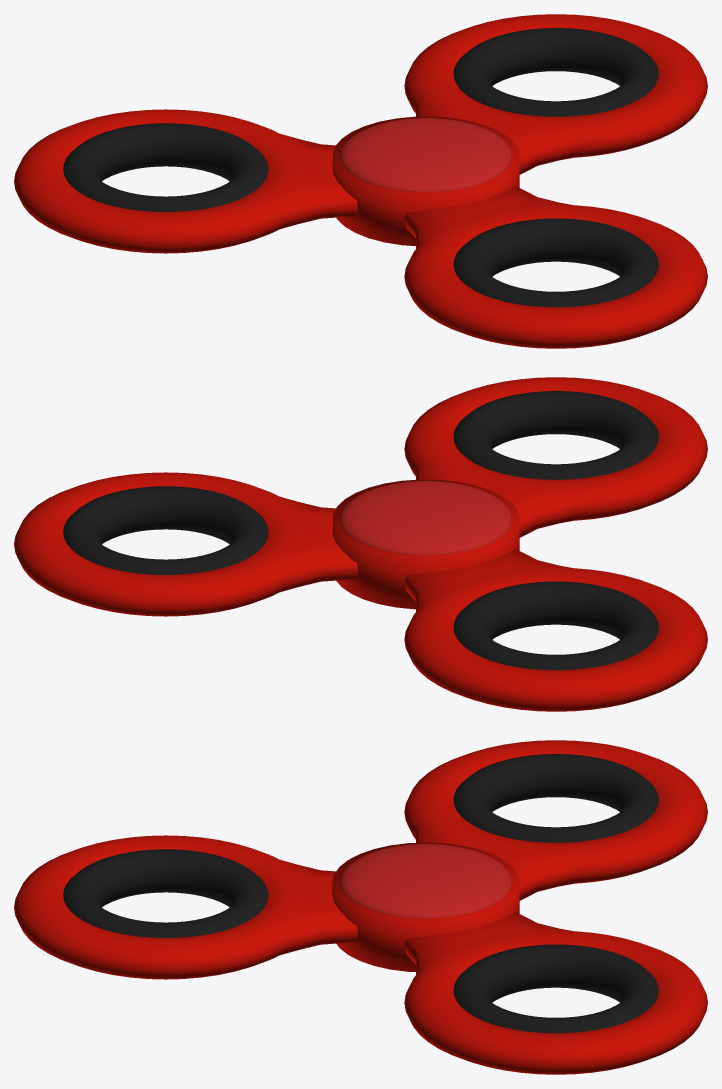
The model's file is midgetspinner.fbx.
3 renders of one model, top to bottom at view 1: azimuth 30°, elevation 25°; view 2: azimuth 150°, elevation 25°; view 3: azimuth 270°, elevation 25°, orthographic.
Parts seen in each view (by area): view 1: Sphere; view 2: Sphere; view 3: Sphere.
Part boxes in pixels (<box>): Sphere: <box>14,14,707,348</box>; Sphere: <box>14,377,707,711</box>; Sphere: <box>14,740,707,1074</box>.
Size of the model in its own units: 870 by 97.39 by 800.
